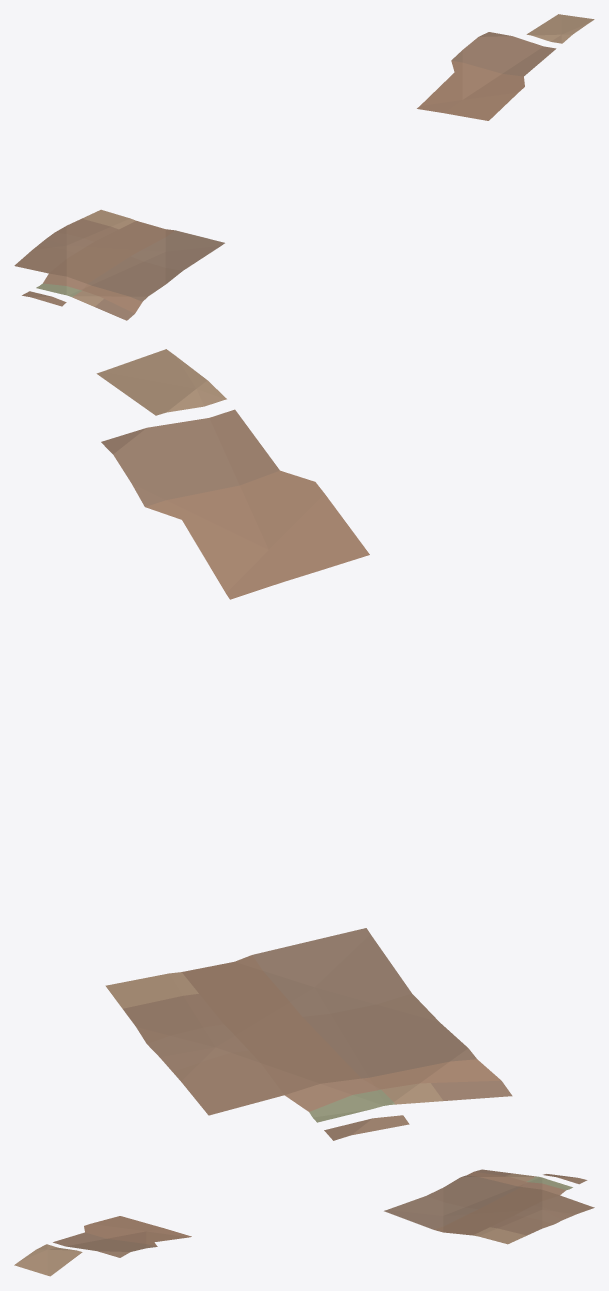
File: farm_-33_-33_soil.glb
3 views of the same model, one above another, from view 1: azimuth 90°, elevation 25°; view 2: azimuth 150°, elevation 25°; view 3: azimuth 270°, elevation 25° (orthographic). The views are drawn at different scales.
Parts seen in each view (by area): view 1: geometry_0; view 2: geometry_0; view 3: geometry_0.
Boxes of the visible parts, box(x1,y1,x2,y2) form: geometry_0: box(14, 14, 594, 320); geometry_0: box(96, 349, 512, 1140); geometry_0: box(14, 1169, 594, 1276).
Bounding box in the file's own units: 396 × 91.98 × 470.
